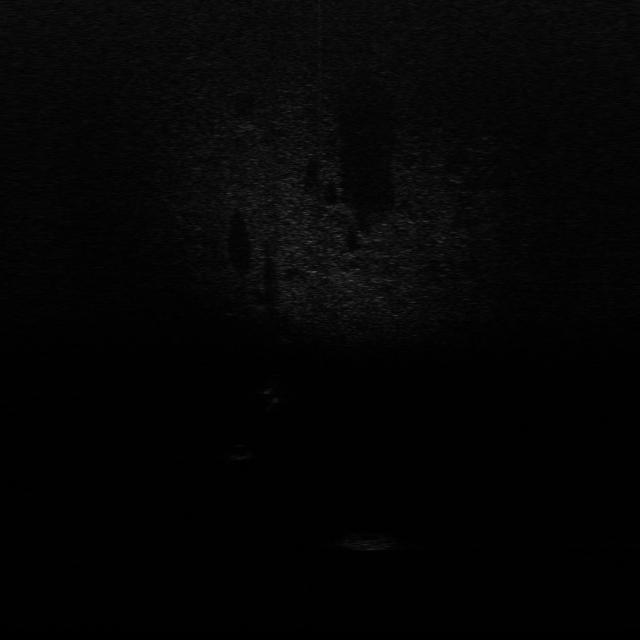ball: (230, 440, 256, 461)
circle cage: (343, 530, 403, 552)
human body: (262, 379, 280, 415)
